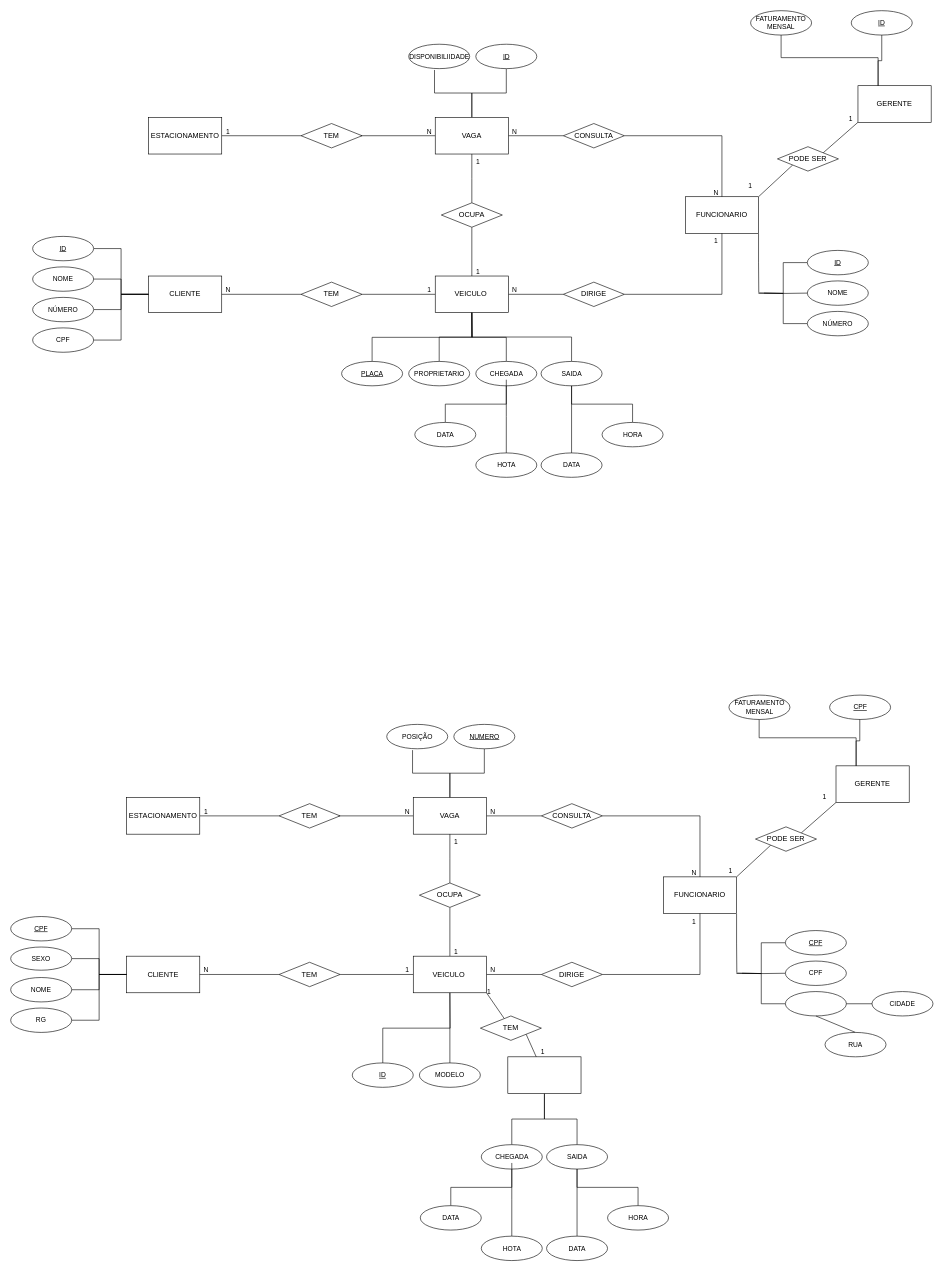
Some shapes in this 944 by 1271 pixel diagram are drawn without their labels. The shapes that lost their labels are listed below. From the top down, each one's centre as x and y in pixels, then its label:
At [815,1003]: "ENDEREÇO".
At [544,1074]: "REGISTRO".
